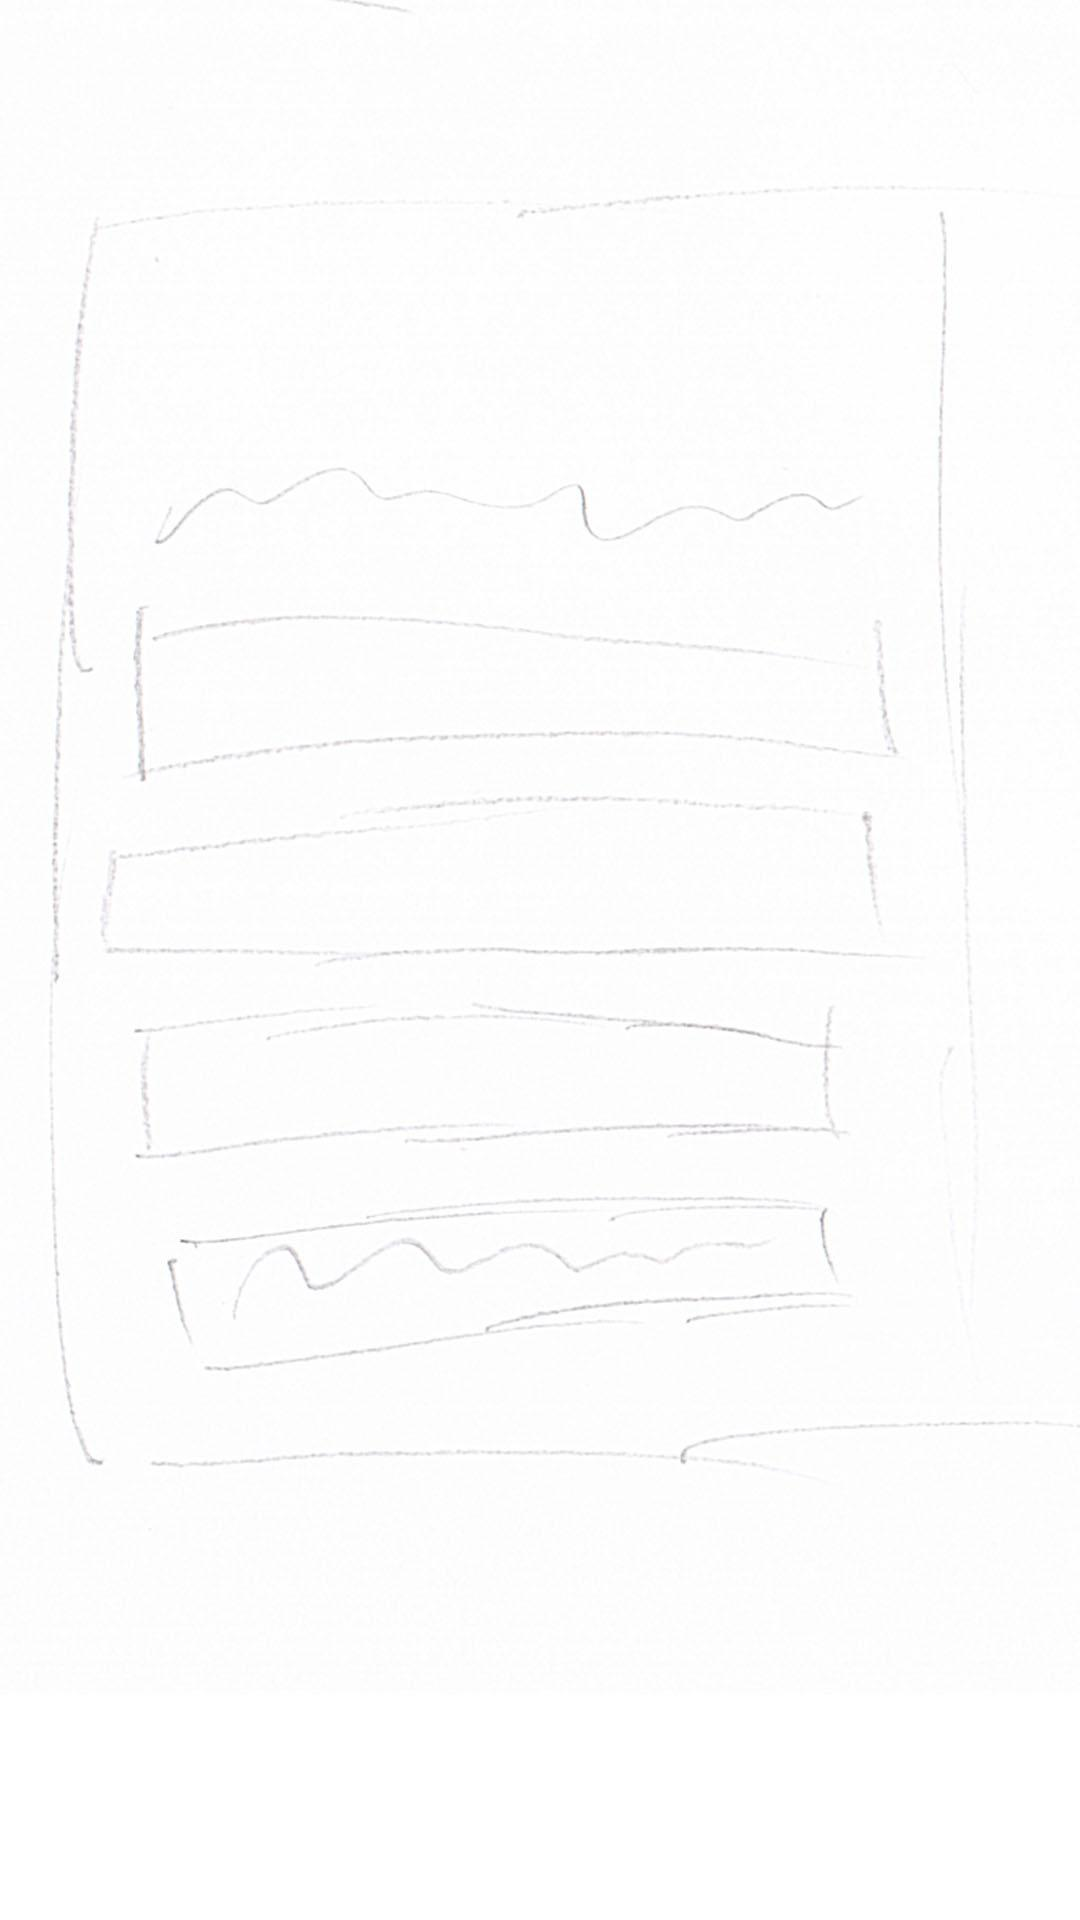Button: (165, 1204, 843, 1371)
Label: (150, 468, 876, 553)
Screen: (59, 179, 981, 1469)
TextBox: (103, 796, 880, 957), (133, 615, 889, 775), (125, 1007, 844, 1163)
